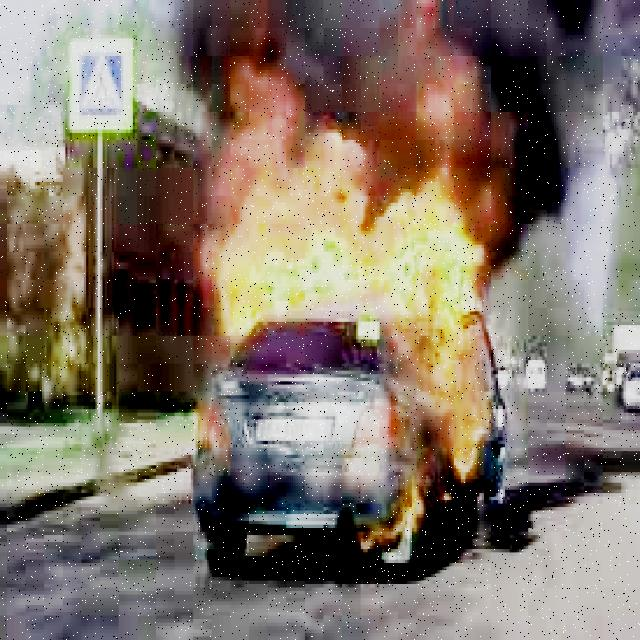api: (199, 82, 501, 463)
